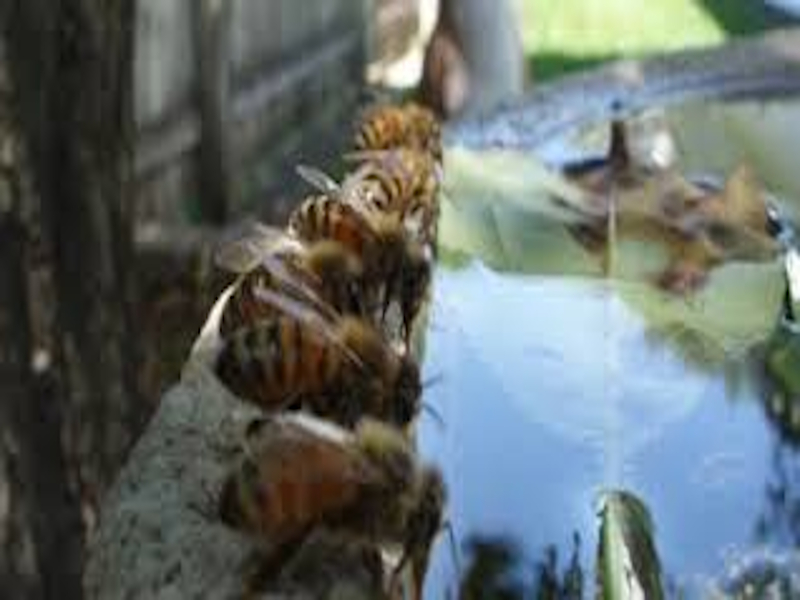abeja: (203, 410, 460, 577), (193, 299, 469, 454), (270, 184, 434, 320)
